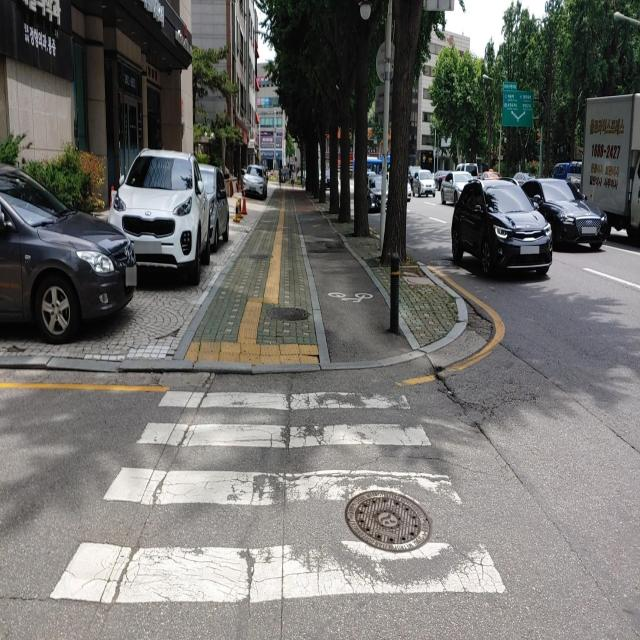횡단보도: (46, 387, 511, 609)
